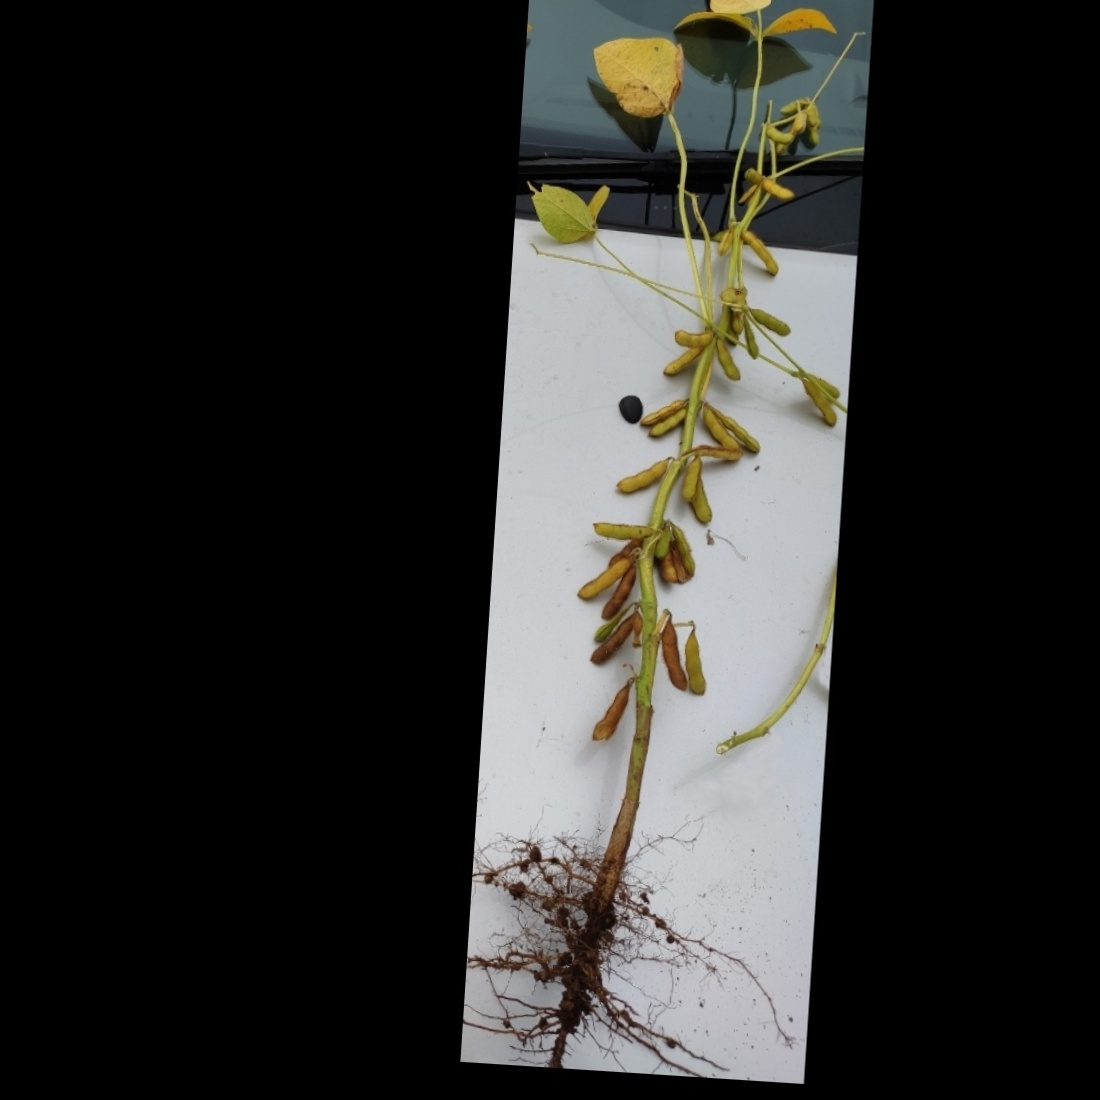pod: (588, 672, 639, 749), (652, 610, 697, 696), (588, 603, 647, 669), (702, 404, 769, 455), (678, 617, 715, 701), (575, 550, 629, 604), (790, 374, 840, 429), (699, 401, 744, 455), (598, 563, 638, 626), (613, 454, 665, 500), (634, 392, 692, 430), (738, 225, 781, 276), (585, 515, 658, 544), (645, 403, 694, 443), (712, 333, 749, 383), (660, 338, 700, 383), (677, 446, 707, 504), (747, 305, 795, 339), (668, 323, 715, 351), (758, 178, 799, 204), (764, 125, 797, 145)
soy: (483, 10, 861, 968)
